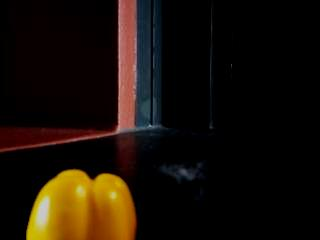Capsicum: (26, 168, 136, 240)
